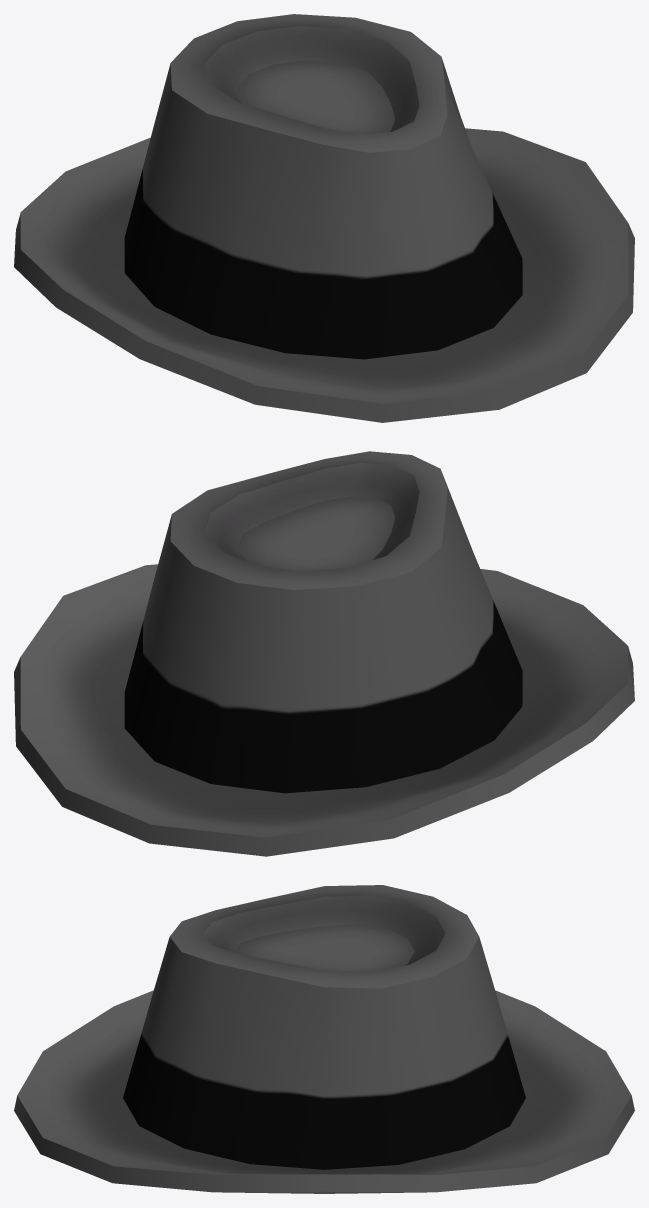
The model's file is m_MafiaHat01.obj.
The picture shows the model from 3 angles, top to bottom: view 1: azimuth 30°, elevation 25°; view 2: azimuth 150°, elevation 25°; view 3: azimuth 270°, elevation 25°; orthographic projection. The views are drawn at different scales.
Visible parts, largest first — view 1: m_MafiaHat01_mi_FedoraHat; view 2: m_MafiaHat01_mi_FedoraHat; view 3: m_MafiaHat01_mi_FedoraHat.
Boxes of the visible parts, bbox=[...] form: m_MafiaHat01_mi_FedoraHat: bbox=[14, 14, 634, 422]; m_MafiaHat01_mi_FedoraHat: bbox=[14, 451, 634, 856]; m_MafiaHat01_mi_FedoraHat: bbox=[14, 885, 634, 1193].
Bounding box in the file's own units: 0.6342 × 0.2376 × 0.7163.
Materials: 1 (1 with a texture image).
